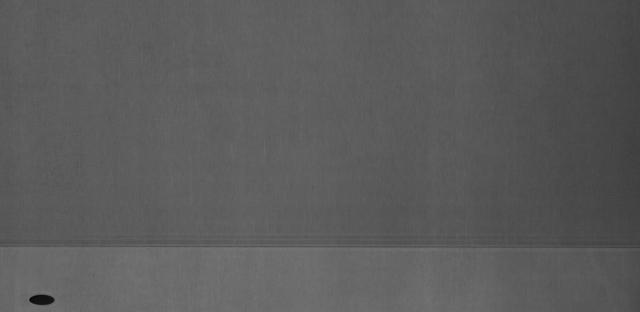welding_line: (0, 235, 640, 260)
